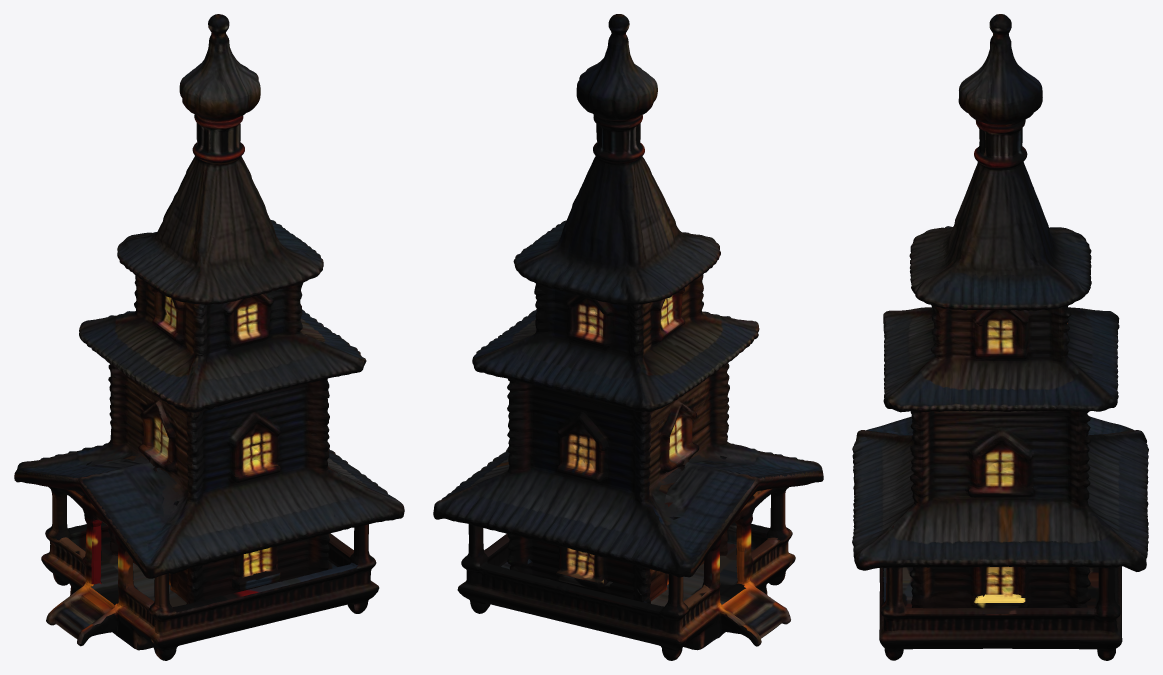
File: terem_paint.glb
3 views of the same model, side by side, from view 1: azimuth 30°, elevation 25°; view 2: azimuth 150°, elevation 25°; view 3: azimuth 270°, elevation 25° (orthographic). The views are drawn at different scales.
Parts seen in each view (by area): view 1: temp_mesh.ply; view 2: temp_mesh.ply; view 3: temp_mesh.ply.
Part boxes in pixels (bbox=[...]): temp_mesh.ply: bbox=[14, 14, 404, 660]; temp_mesh.ply: bbox=[433, 14, 823, 660]; temp_mesh.ply: bbox=[852, 14, 1148, 660].
Size of the model in its own units: 0.9813 by 1.97 by 0.8802.
1 material, 1 textured.
